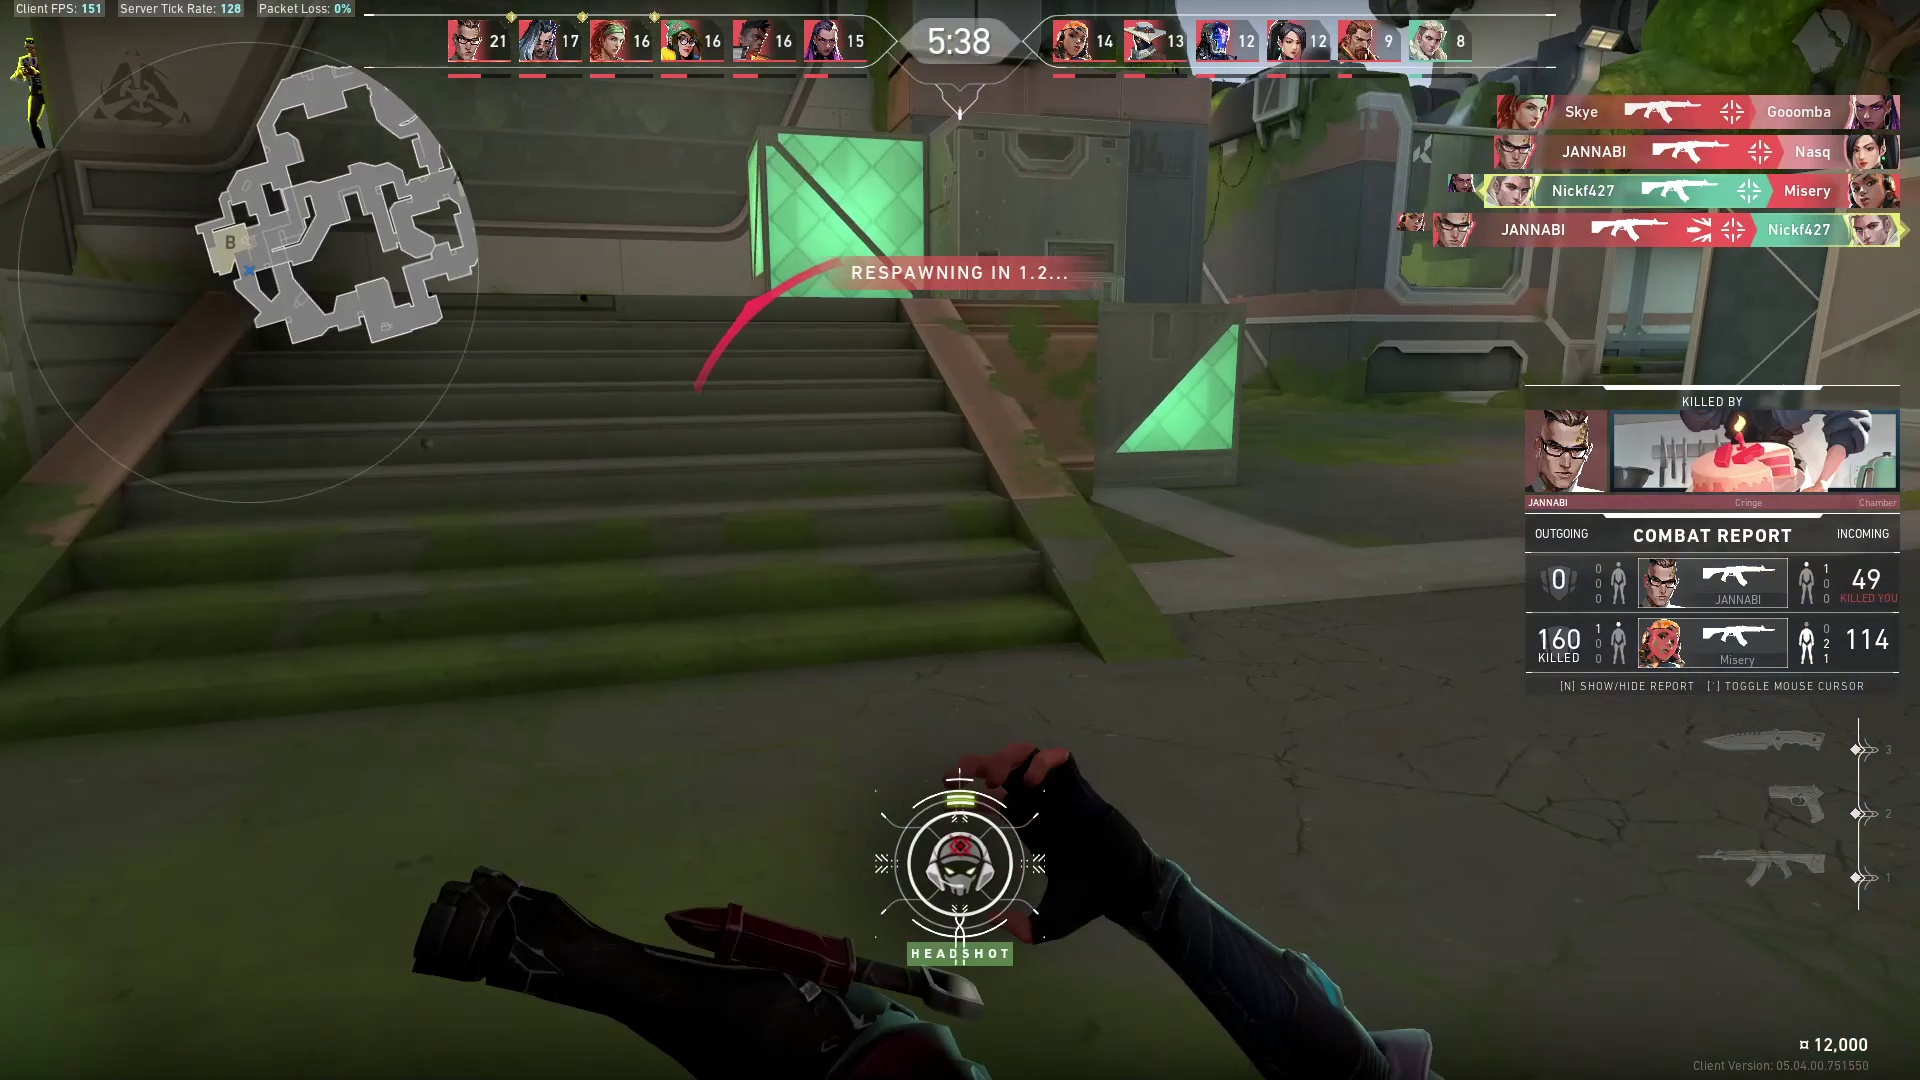enemy_body: (10, 55, 52, 148)
enemy_head: (22, 35, 37, 58)
